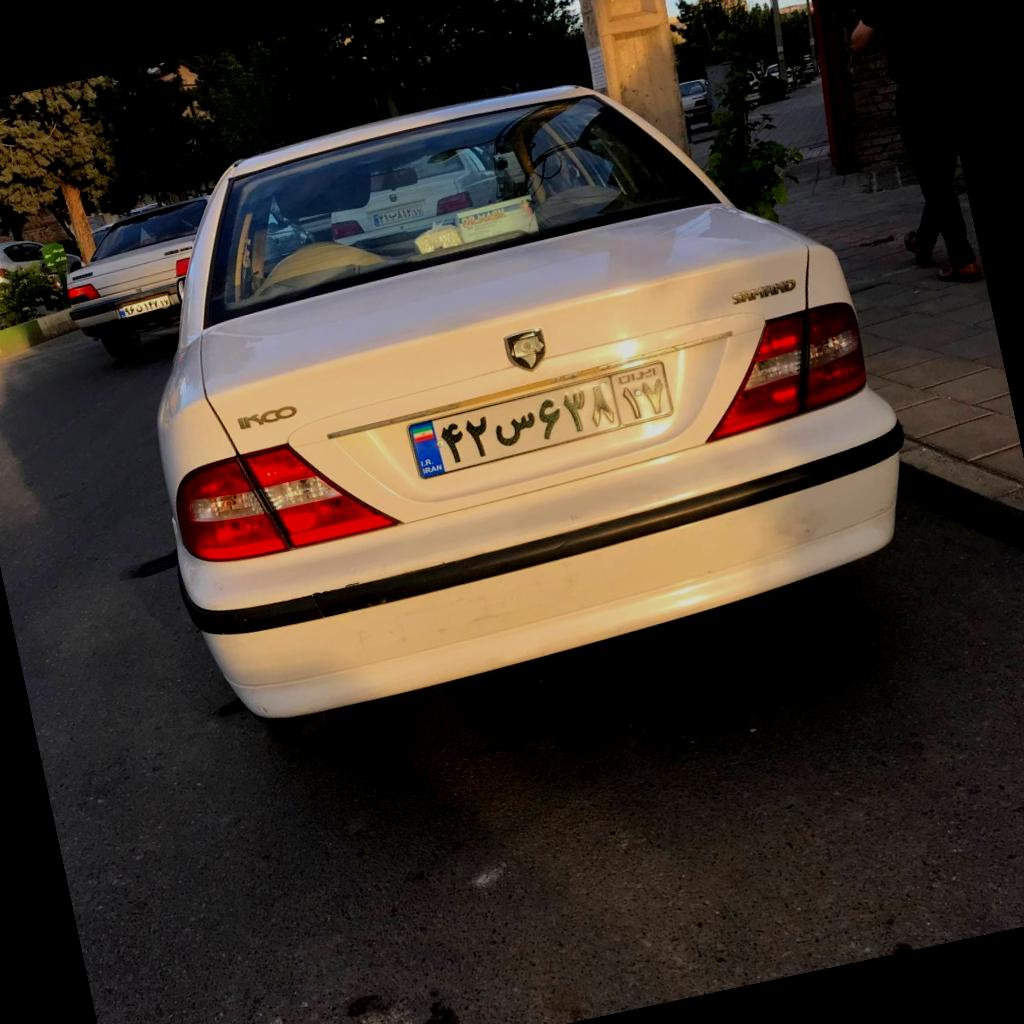Plates: (407, 362, 674, 480)
